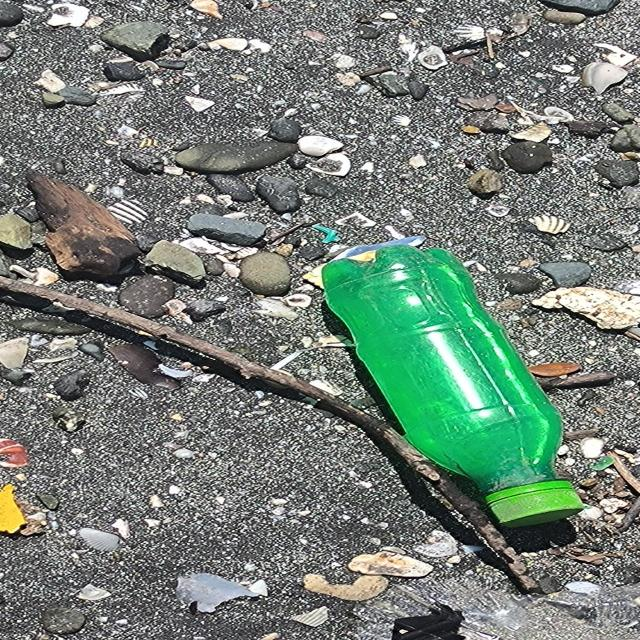plastic_waste: (318, 243, 588, 529)
